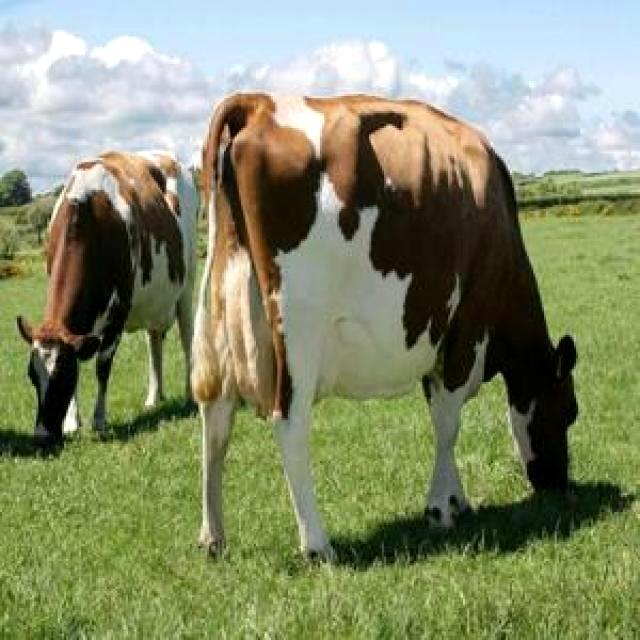COW: (192, 94, 578, 558), (18, 152, 196, 444)
